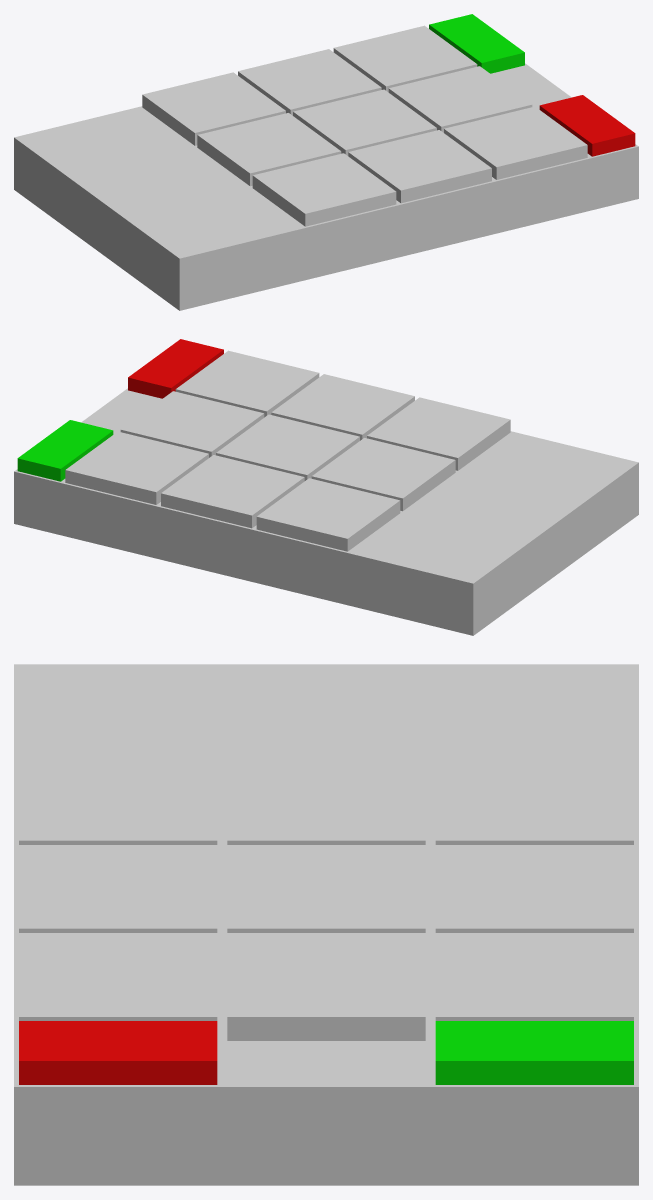
File: keypad.fbx
The picture shows the model from 3 angles, top to bottom: view 1: azimuth 30°, elevation 25°; view 2: azimuth 150°, elevation 25°; view 3: azimuth 270°, elevation 25°; orthographic projection. The views are drawn at different scales.
Visible parts, largest first — view 1: Cube; view 2: Cube; view 3: Cube.
Part boxes in pixels (box(x1,y1,x2,y2)): Cube: box(14, 14, 638, 310); Cube: box(14, 339, 638, 635); Cube: box(14, 664, 638, 1185).
Bounding box in the file's own units: 320 × 43.4 × 200.
